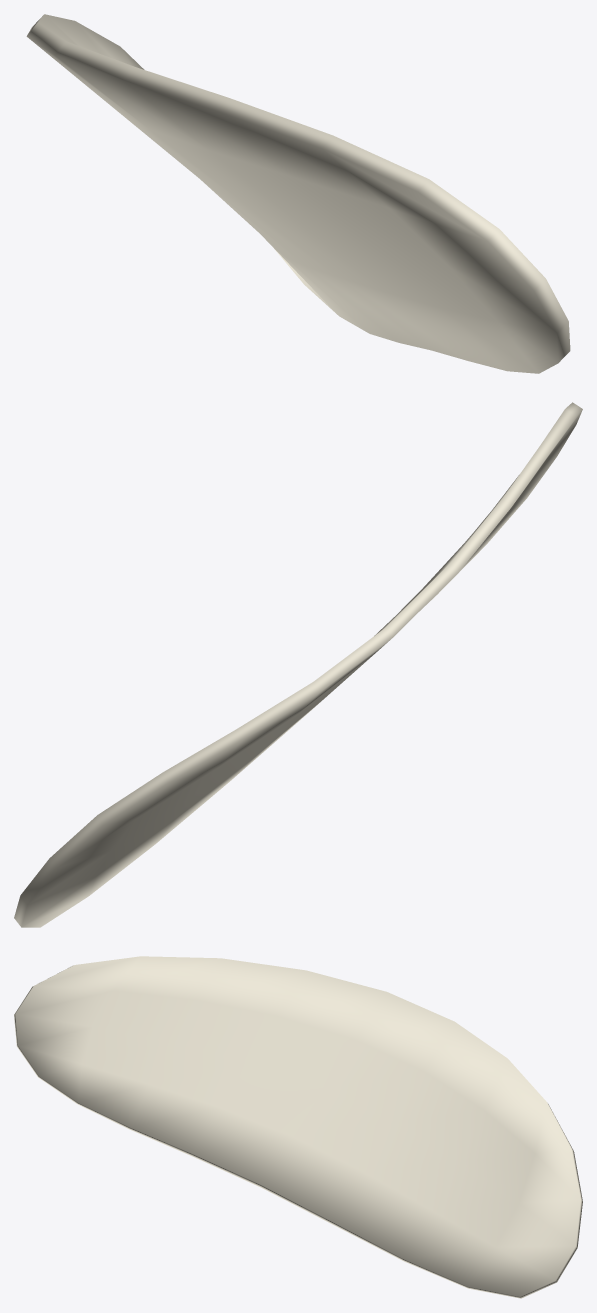
3 views of the same model, one above another, from view 1: azimuth 30°, elevation 25°; view 2: azimuth 150°, elevation 25°; view 3: azimuth 270°, elevation 25° (orthographic). The views are drawn at different scales.
Visible parts, largest first — view 1: ZA_41a7661225ac83b4; view 2: ZA_41a7661225ac83b4; view 3: ZA_41a7661225ac83b4.
Part boxes in pixels (x1,y1,x2,y2): ZA_41a7661225ac83b4: [26, 14, 570, 373]; ZA_41a7661225ac83b4: [14, 402, 582, 927]; ZA_41a7661225ac83b4: [14, 956, 582, 1298].
Bounding box in the file's own units: 0.0117 × 0.0141 × 0.0282.
